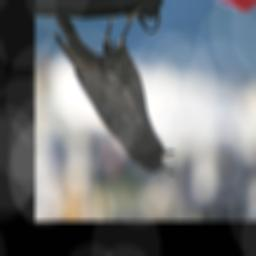Crow: (52, 3, 178, 178)
